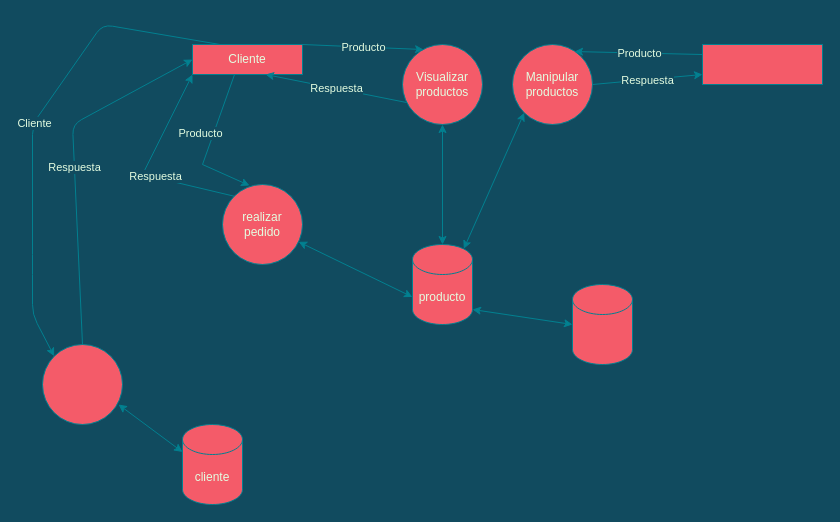
This 840x522 diagram has some shape labels left out. Each missing label, with the box of its shape:
Editar perfil: (42, 344, 122, 424)
empleado (logística): (702, 44, 822, 84)
Estantería: (572, 284, 632, 364)
